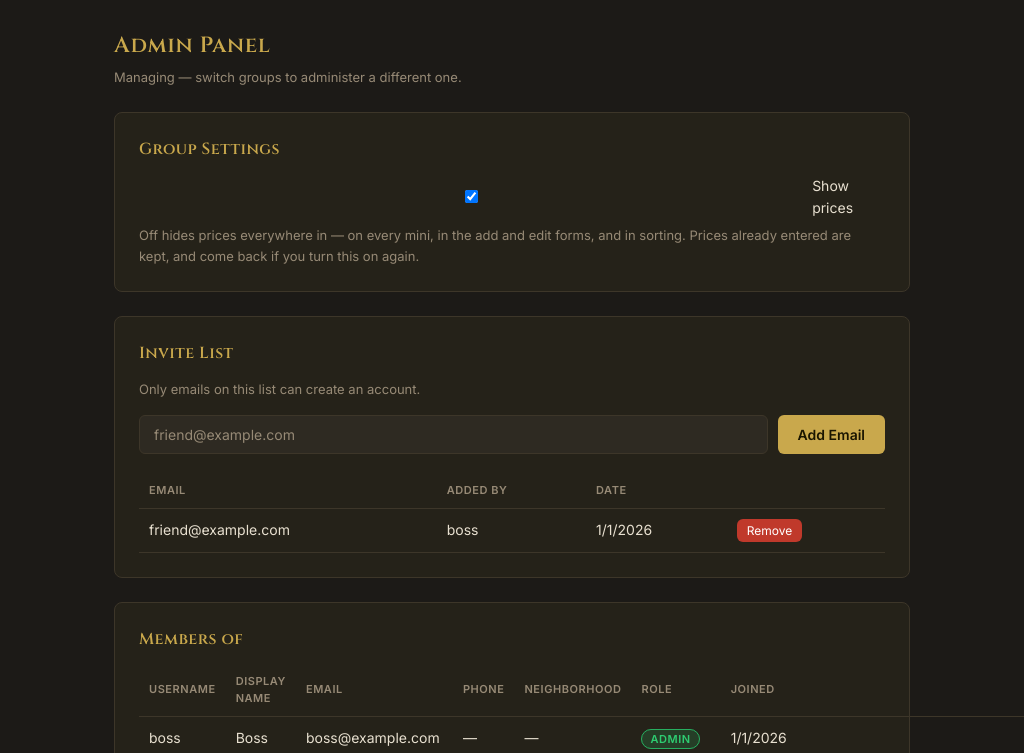
Test: AdminPage — invite email checks › explains an incomplete email under the box and invites nobody
The width and height of the screenshot is (1024, 753).
Expected: the text "friend@example.com" is shown, [139,508,437,552]
Type "newfriend" into the field with placeholder "friend@example.com" at x=453, y=435, box [139,415,768,454]
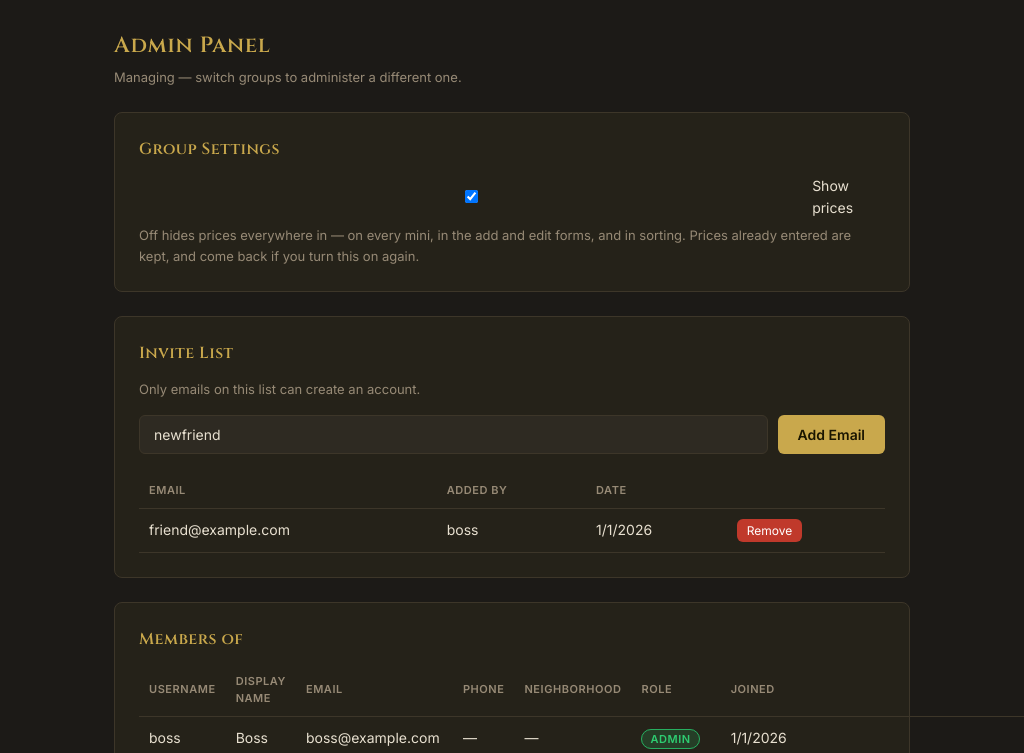
Click the button "Add Email" at x=831, y=435, box [778,415,885,454]
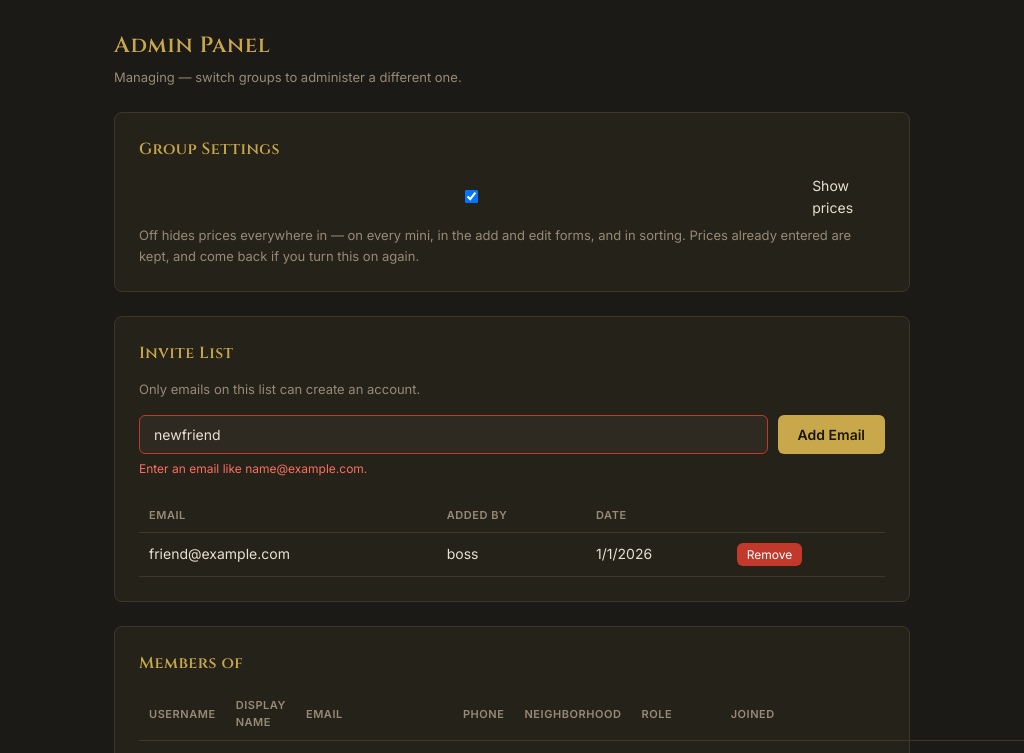
Expected: the message reads "Enter an email like name@example.com.", [139,461,367,476]
